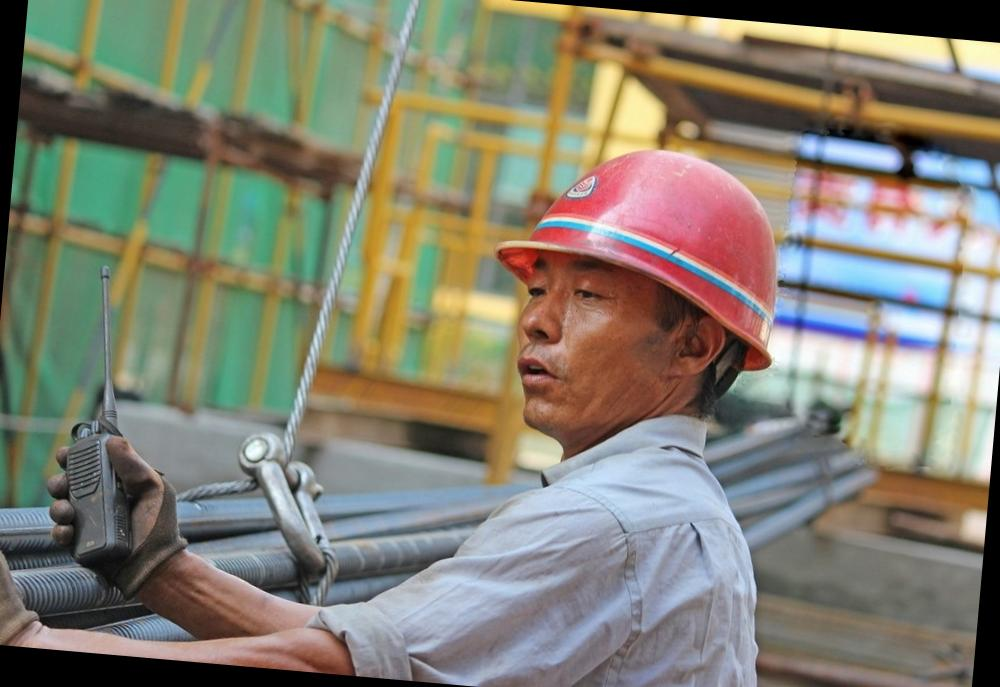helmet: (480, 134, 812, 367)
wear: (326, 428, 796, 687)
